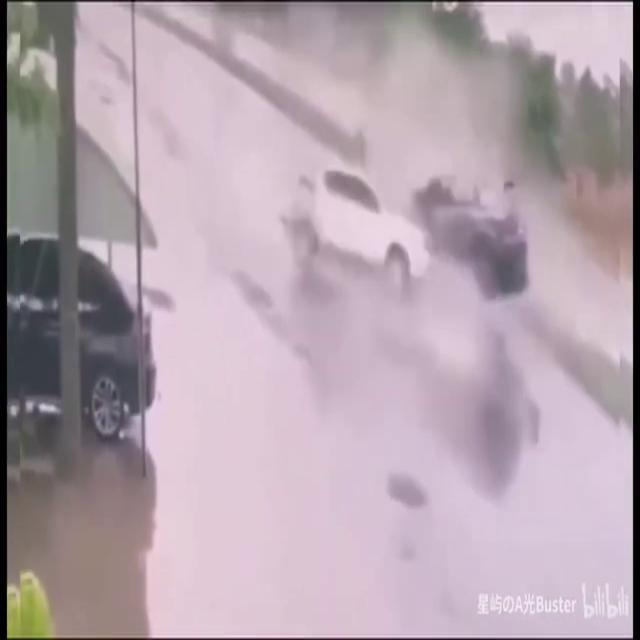multiple_accident: (276, 154, 590, 417)
normal: (13, 227, 167, 440)
